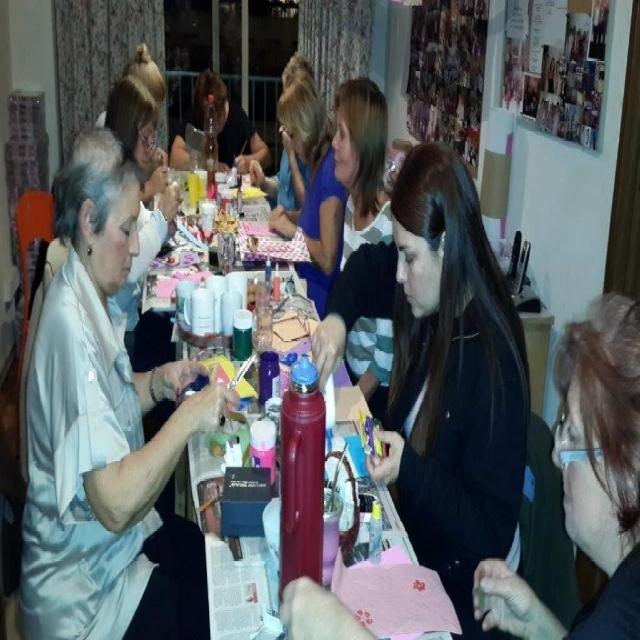body: (274, 287, 640, 639), (15, 127, 241, 639), (308, 139, 532, 640), (402, 0, 612, 173), (102, 71, 185, 447), (324, 77, 399, 430), (162, 0, 302, 162), (268, 71, 348, 325), (93, 44, 169, 204), (168, 68, 272, 174), (248, 50, 316, 212)
